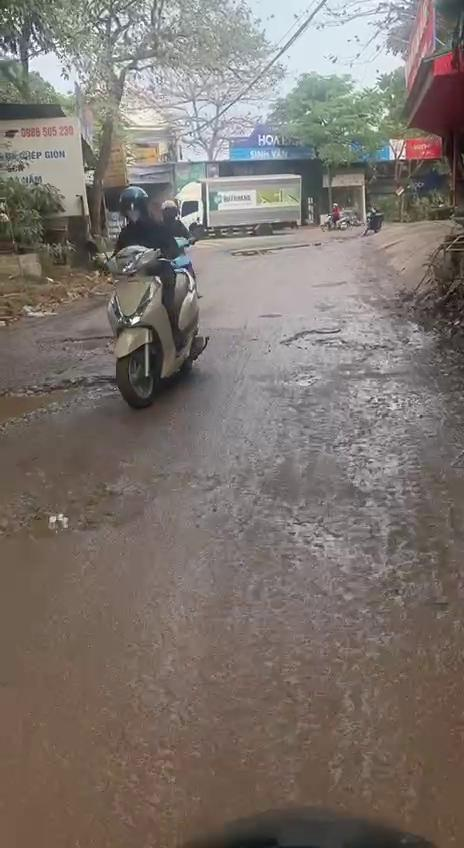pothole: (0, 473, 151, 548), (0, 370, 116, 424), (272, 324, 399, 358), (62, 328, 114, 352)
